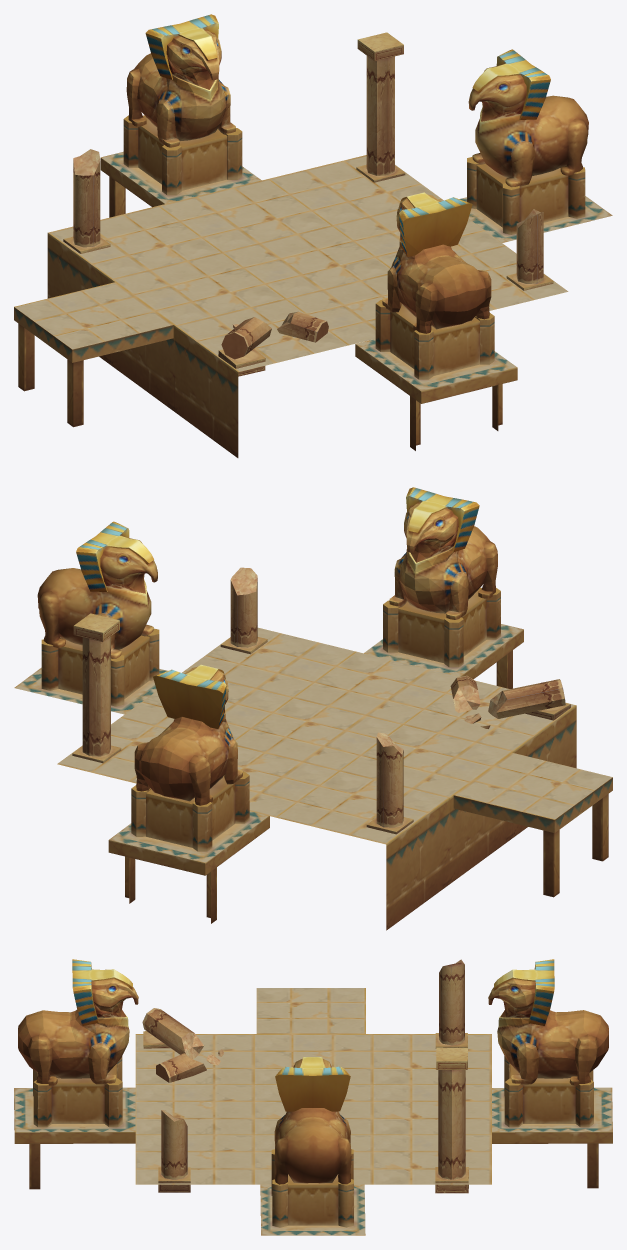
File: Area_01_7_y.FBX
3 renders of one model, top to bottom at view 1: azimuth 30°, elevation 25°; view 2: azimuth 150°, elevation 25°; view 3: azimuth 270°, elevation 25°, orthographic. The views are drawn at different scales.
Visible parts, largest first — view 1: Area_01_7_y; view 2: Area_01_7_y; view 3: Area_01_7_y.
Part boxes in pixels (left/top/right/bottom): Area_01_7_y: left=14, top=14, right=612, bottom=457; Area_01_7_y: left=14, top=487, right=612, bottom=930; Area_01_7_y: left=14, top=959, right=612, bottom=1235.
Bounding box in the file's own units: 49.32 × 20.16 × 50.43.
Materials: 1 (1 with a texture image).
